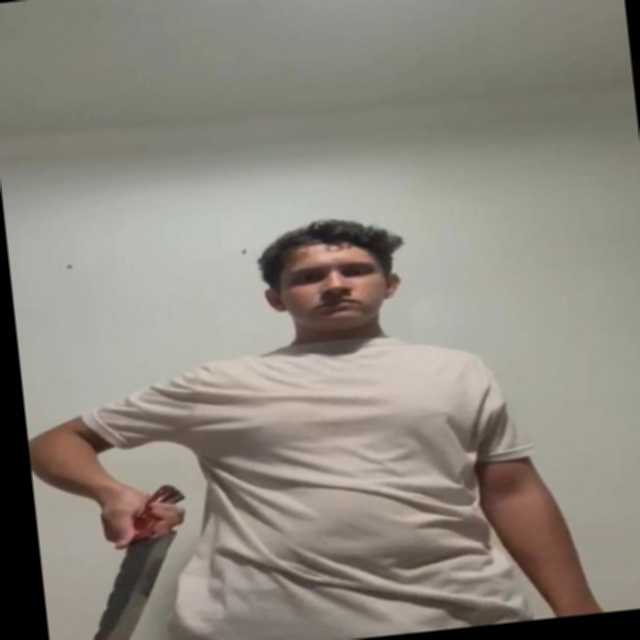Sharp-Object: (69, 533, 185, 640)
